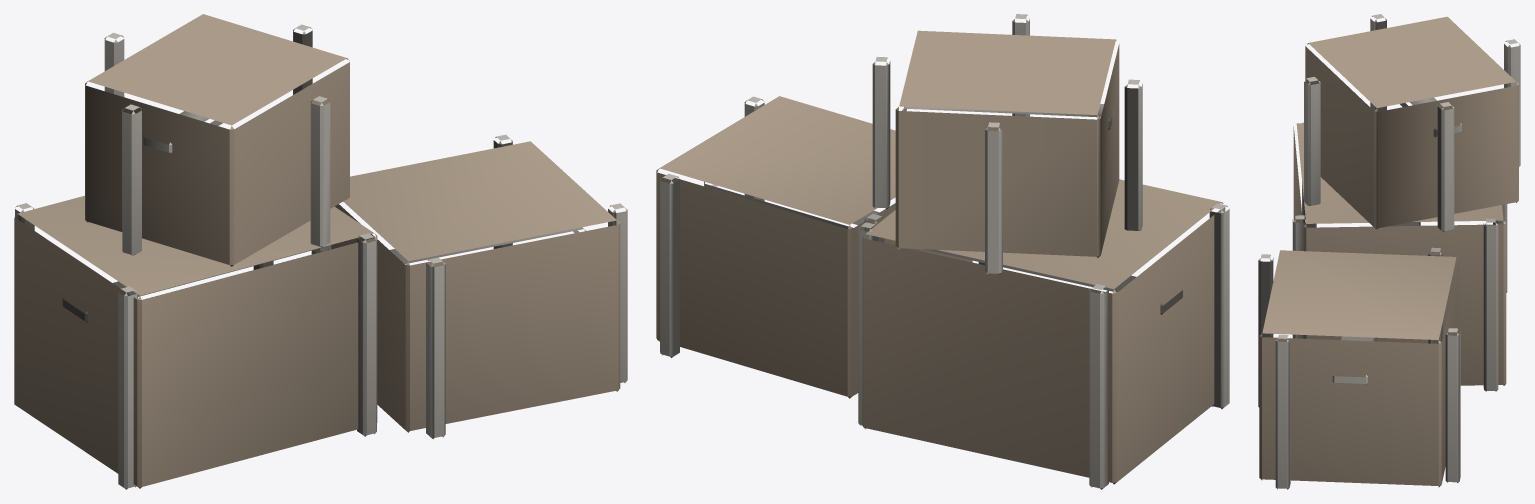
File: crates.glb
The picture shows the model from 3 angles, left to right: view 1: azimuth 30°, elevation 25°; view 2: azimuth 150°, elevation 25°; view 3: azimuth 270°, elevation 25°; orthographic projection. The views are drawn at different scales.
Parts seen in each view (by area): view 1: props_crates; view 2: props_crates; view 3: props_crates.
Part boxes in pixels (x1,y1,x2,y2): props_crates: [14, 14, 627, 489]; props_crates: [656, 14, 1229, 489]; props_crates: [1258, 14, 1520, 489].
Size of the model in its own units: 2.39 by 1.58 by 1.29.
